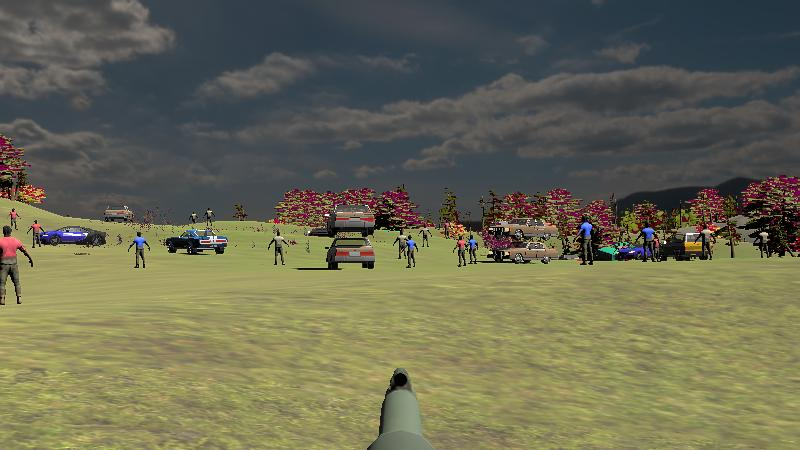Human: (0, 225, 34, 306), (575, 215, 598, 266), (636, 222, 658, 263), (128, 230, 150, 270), (267, 228, 289, 266), (27, 218, 44, 249), (453, 233, 467, 267), (465, 234, 478, 265)
car: (327, 232, 375, 270), (166, 229, 228, 256), (327, 203, 376, 236), (166, 229, 228, 255), (494, 240, 561, 264), (493, 217, 559, 241), (39, 226, 107, 248), (664, 232, 706, 261), (602, 241, 656, 262), (102, 203, 133, 223)
